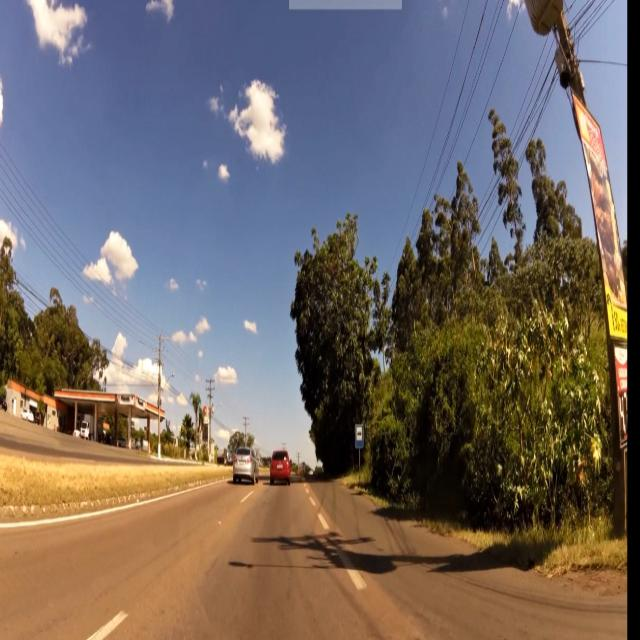S-14: (355, 425, 363, 450)
